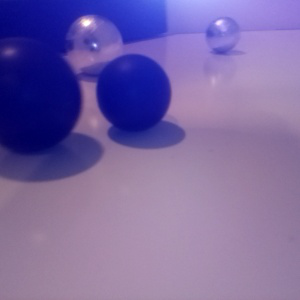alive_ball: (66, 15, 123, 77), (205, 17, 240, 53)
dead_ball: (1, 41, 82, 153), (94, 54, 171, 132)
